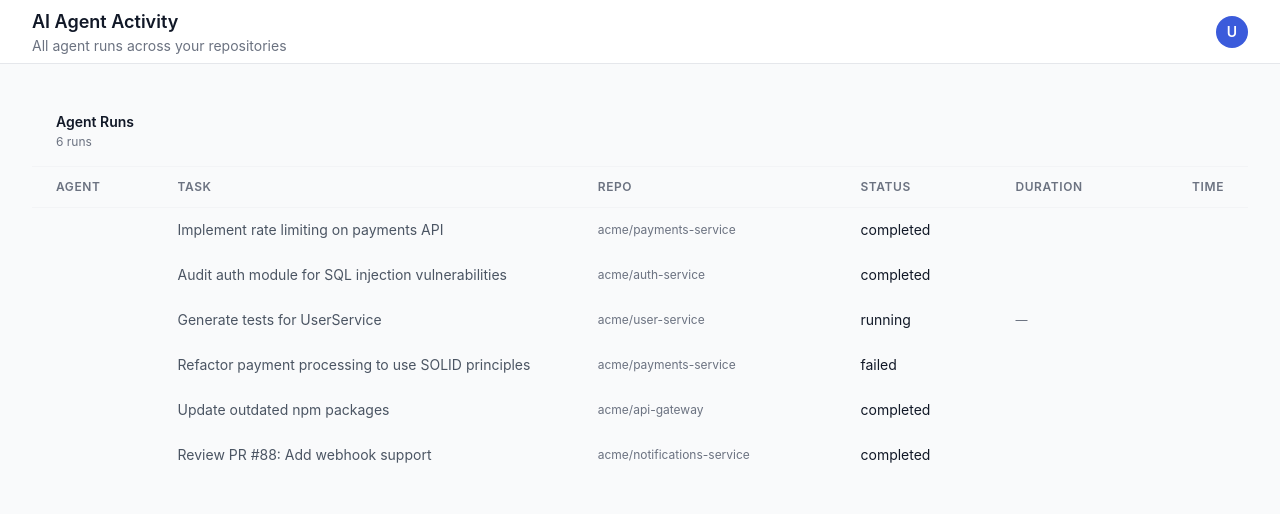
Test: AgentActivityPage › closes the detail panel when the close button is clicked
This screenshot has width=1280, height=514.
Click the text "Implement rate limiting on payments API": {"x": 640, "y": 230} [32,208,1248,252]
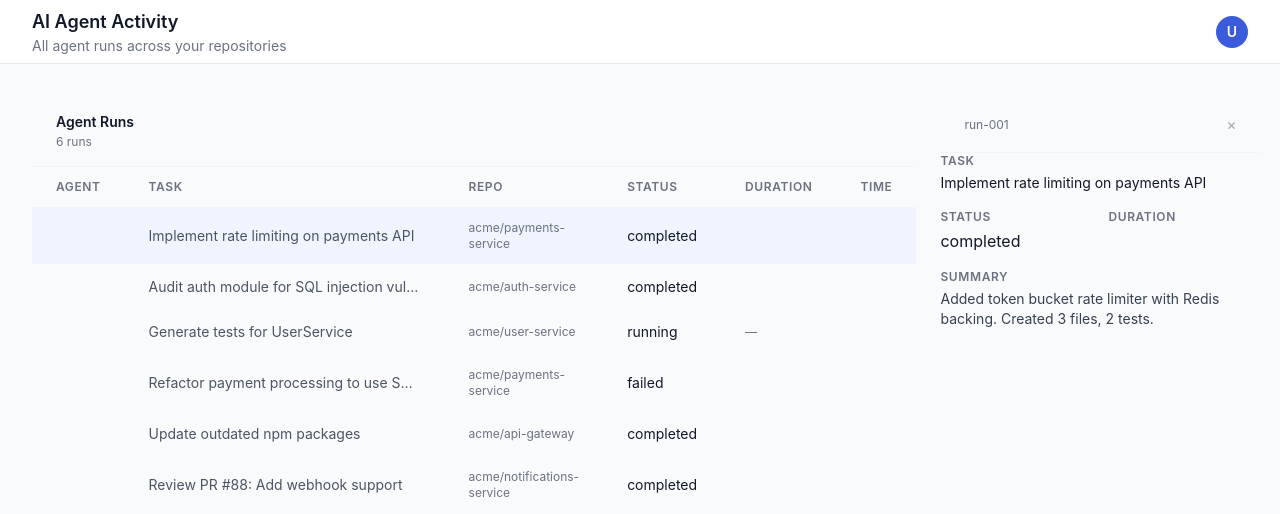
Click the button "✕": {"x": 1231, "y": 126} [1226,118,1236,134]
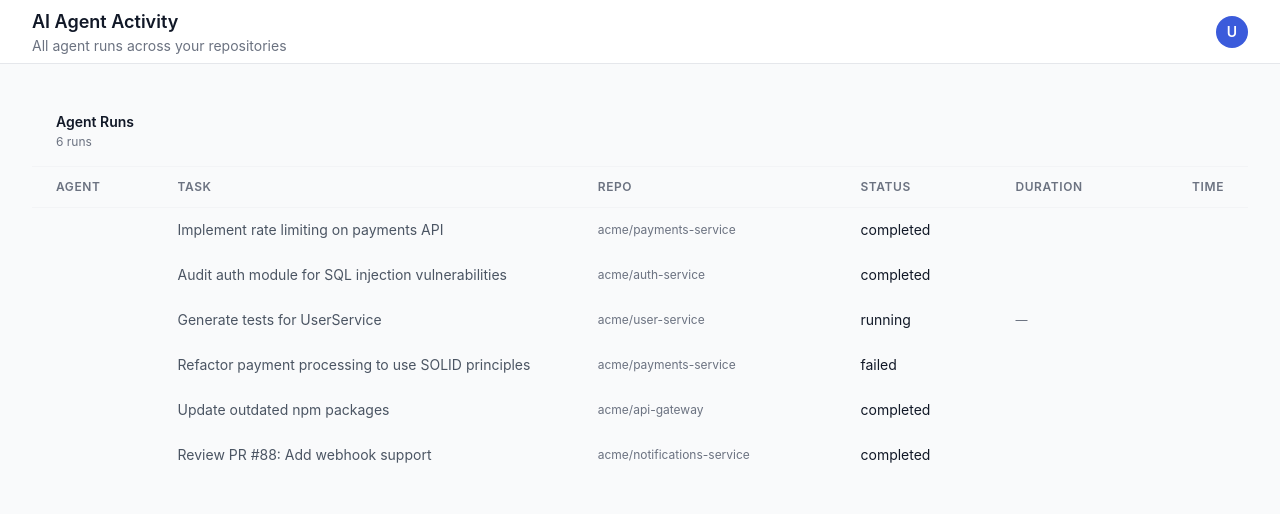
Check: the button "✕" is gone
